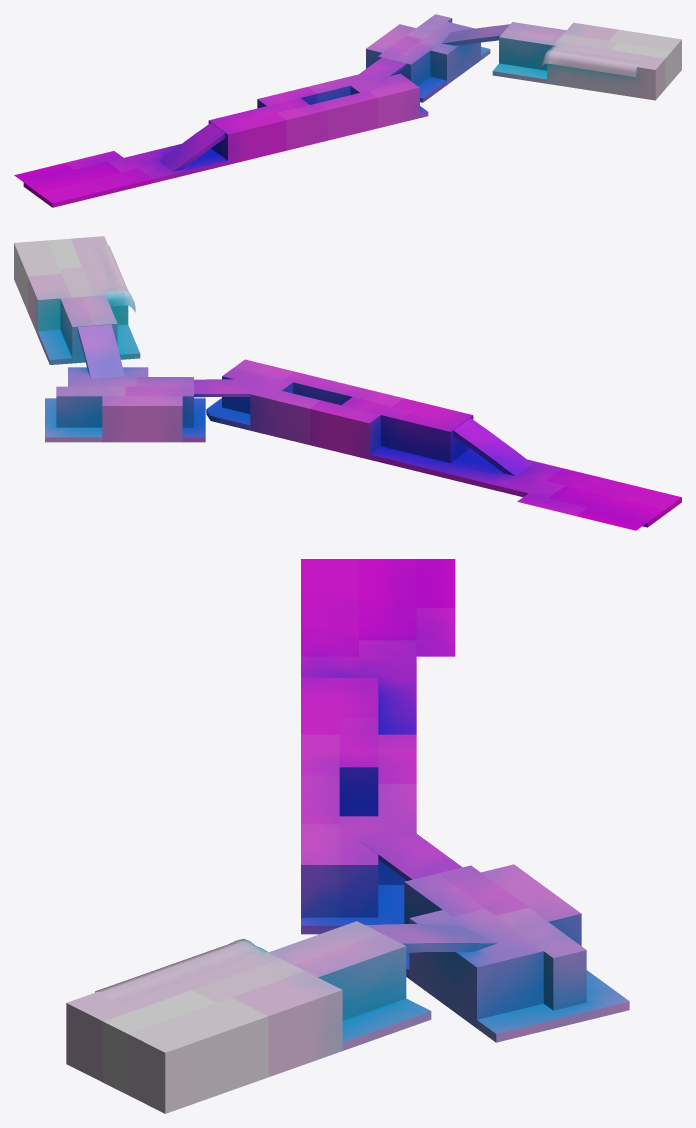
Rendered from SM_RoadModule_D2.fbx.
The picture shows the model from 3 angles, top to bottom: view 1: azimuth 30°, elevation 25°; view 2: azimuth 150°, elevation 25°; view 3: azimuth 270°, elevation 25°; orthographic projection. The views are drawn at different scales.
Parts seen in each view (by area): view 1: road; view 2: road; view 3: road.
Boxes of the visible parts, <box> form: road: <box>14,14,681,207</box>; road: <box>14,236,681,530</box>; road: <box>66,559,629,1113</box>.
Bounding box in the file's own units: 7133 × 2923 × 567.
